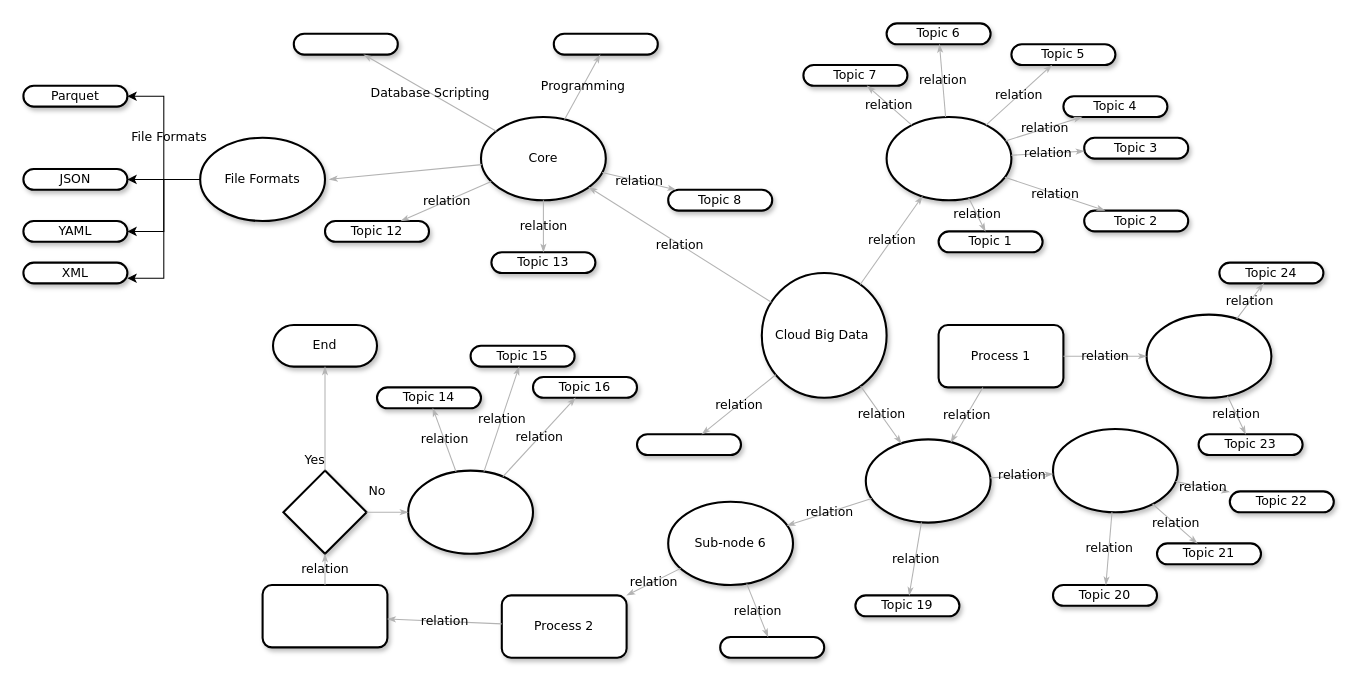
Image size: 1358x683. Some labels were removed from this diagram. Here are the shapes that lost their labels. From the top down, the centre of each, then its label:
[346,45]: SQL
[606,45]: Python
[949,159]: Cloud
[1209,357]: Sub-node 3
[689,445]: Topic 17
[928,482]: Sub-node 5
[1116,471]: Sub-node 4
[325,513]: Condition
[471,513]: Sub-node 7
[325,617]: Process 3
[772,648]: Topic 18
